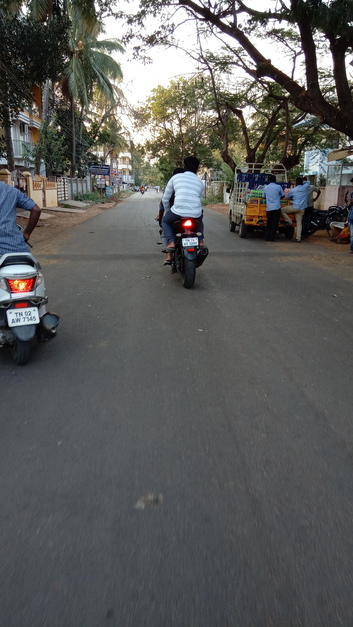bump: (34, 248, 314, 261)
